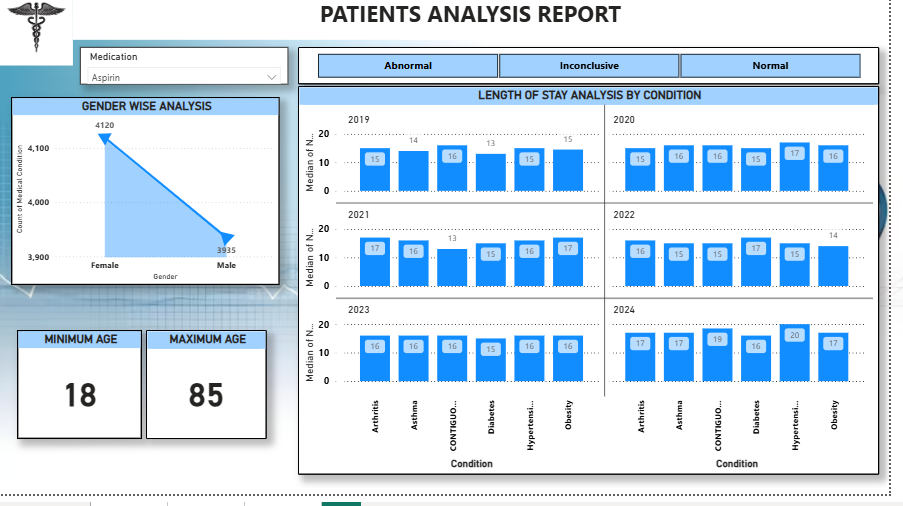

The dashboard page shown, as its layout file describes it:
{"tool":"powerbi","page":{"name":"Page 2","canvas":[1280,720],"ordinal":1},"visuals":[{"type":"textbox","box":[104.4,0,1175,66.2],"z":0},{"type":"image","box":[0,0,105.1,103.8],"z":1000},{"type":"areaChart","title":"GENDER WISE ANALYSIS","fields":{"Category":["healthcare_dataset.Gender"],"Y":["CountNonNull(healthcare_dataset.Medical Condition)"]},"box":[15.8,148.3,387.4,270.7],"z":2000},{"type":"slicer","fields":{"Values":["healthcare_dataset.Test Results"]},"box":[429.4,75.7,836.8,53.7],"z":3000},{"type":"slicer","fields":{"Values":["healthcare_dataset.Medication"]},"box":[115.6,75.7,300,53.7],"z":4000},{"type":"lineClusteredColumnComboChart","title":"LENGTH OF STAY ANALYSIS BY CONDITION","fields":{"Category":["healthcare_dataset.Condition"],"Y":["Median(healthcare_dataset.No of days)"],"Rows":["healthcare_dataset.Discharge Date.3"]},"box":[429.4,132.2,836.5,560.3],"z":5000},{"type":"card","title":"MINIMUM AGE","fields":{"Values":["Min(healthcare_dataset.Age)"]},"box":[24.5,483.8,180,157],"z":5001},{"type":"card","title":"MAXIMUM AGE","fields":{"Values":["Max(healthcare_dataset.Age)"]},"box":[210.2,483.8,174.2,157],"z":5002}]}

Visuals, with their boxes in screenshot pixels (x1, y1, x2, y2), scaled from the page's 1280x720 canvas onto the 903x506 screenshot:
textbox: [74, 0, 902, 47]
image: [0, 0, 74, 73]
"GENDER WISE ANALYSIS" areaChart: [11, 104, 284, 294]
slicer - healthcare_dataset.Test Results: [303, 53, 893, 91]
slicer - healthcare_dataset.Medication: [82, 53, 293, 91]
"LENGTH OF STAY ANALYSIS BY CONDITION" lineClusteredColumnComboChart: [303, 93, 893, 487]
"MINIMUM AGE" card: [17, 340, 144, 450]
"MAXIMUM AGE" card: [148, 340, 271, 450]
